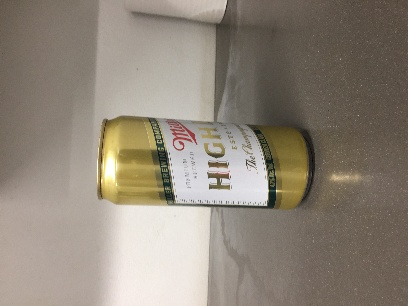ML: (71, 83, 224, 152)
